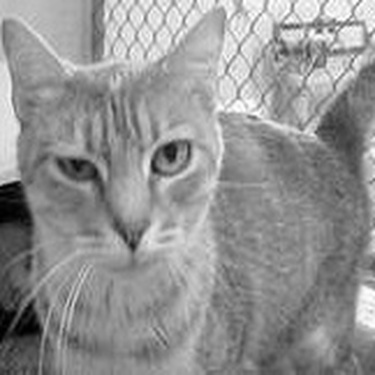cat: (2, 8, 365, 369)
